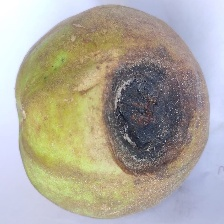guava: (46, 37, 223, 204)
